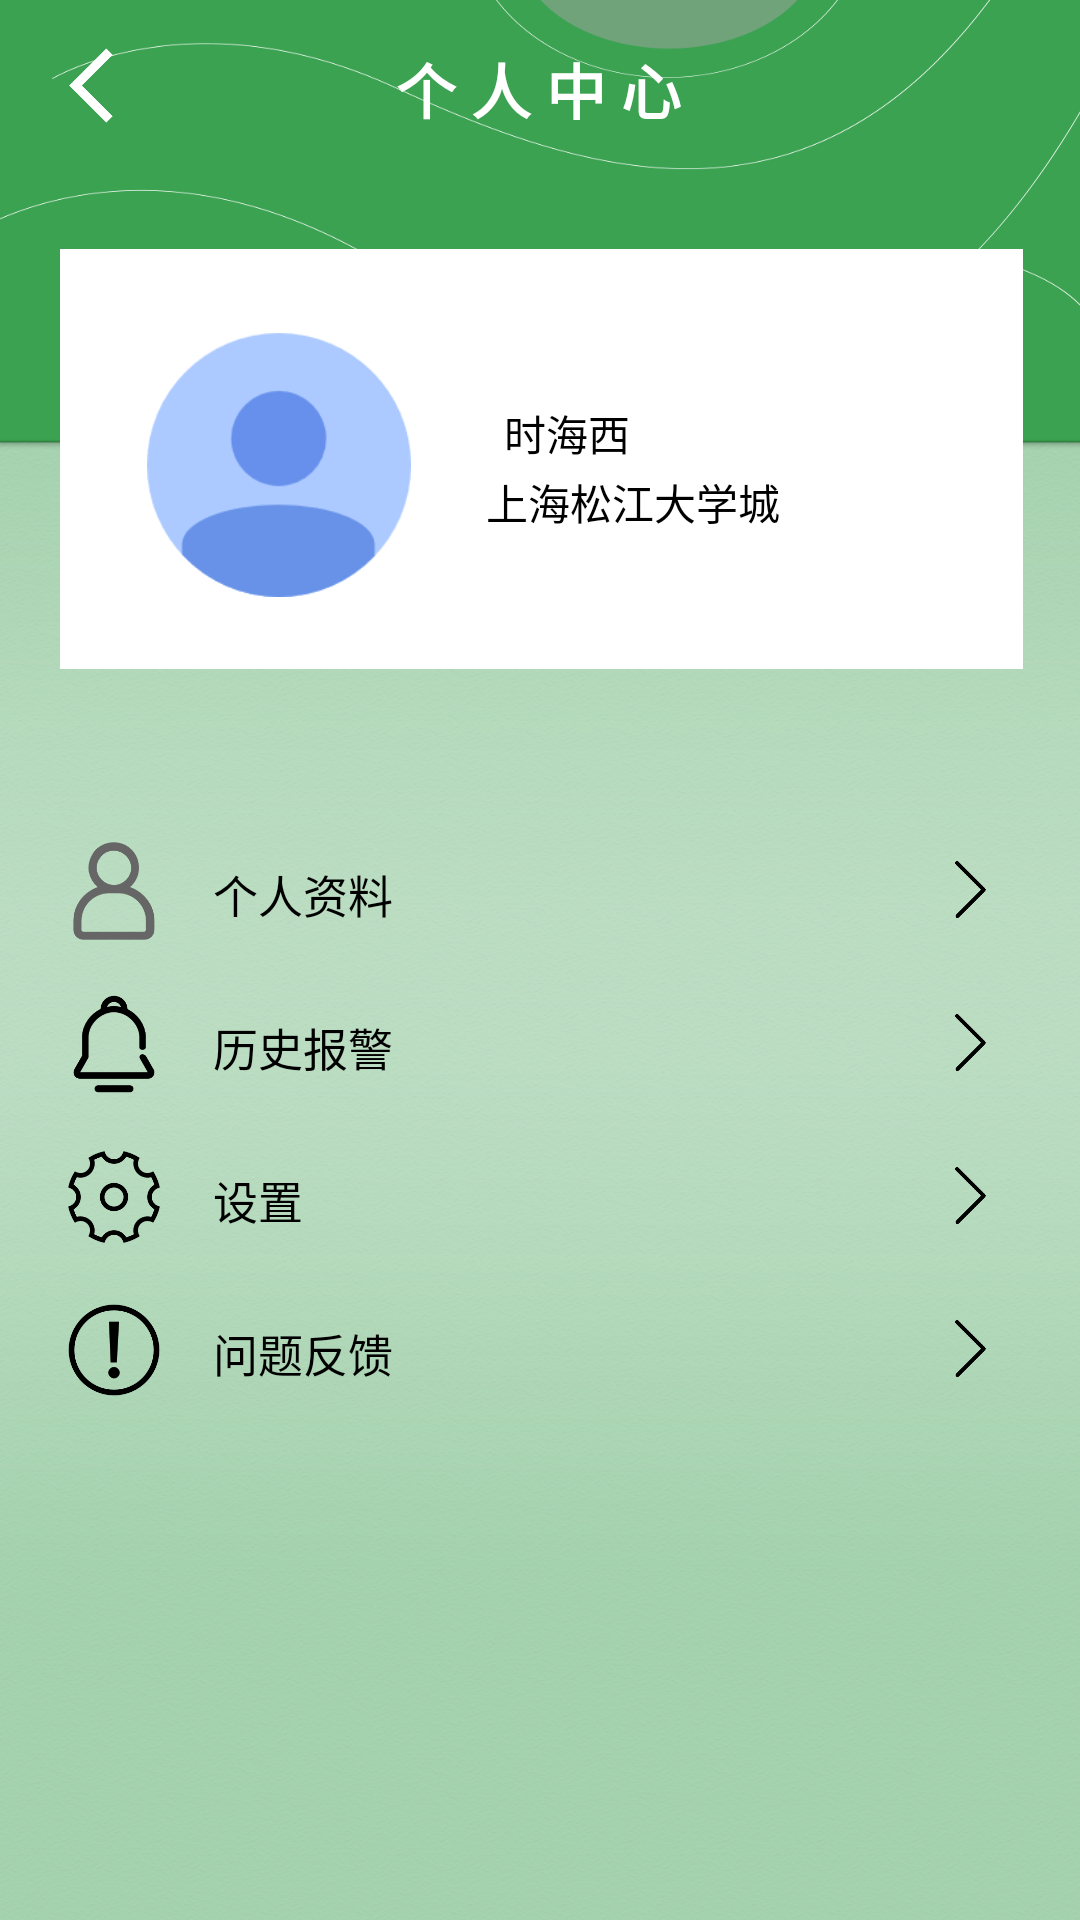

Icons on this 1080px×1920px Android screen, each with its box as (x1, y1, x2, y2):
left: (54, 48, 129, 123)
photo: (147, 333, 411, 597)
problem: (68, 1304, 160, 1396)
right: (955, 861, 986, 918), (955, 1014, 986, 1071), (955, 1167, 986, 1224), (955, 1320, 986, 1377)
setting: (68, 1151, 160, 1243)
user: (73, 842, 155, 940)
